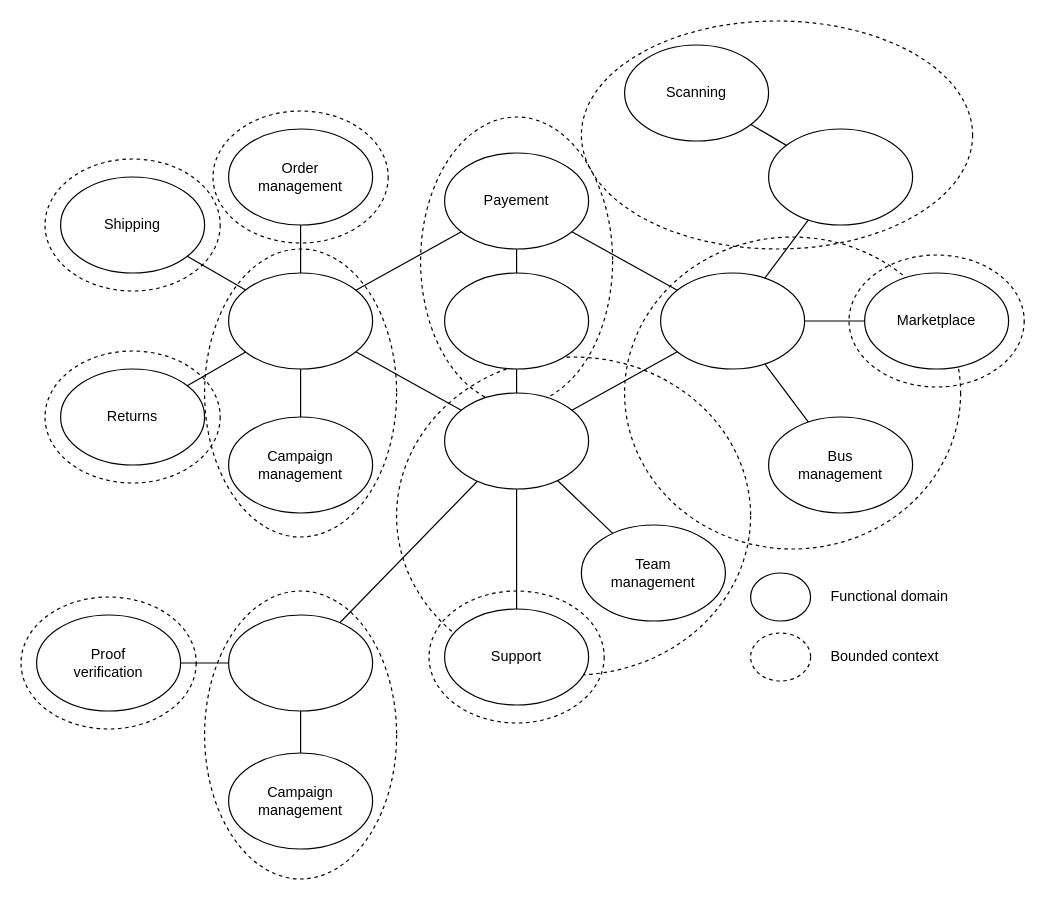
Image size: 1045x900. Some labels were removed from this diagram. The centre of each missing label's shape, as x and y in pixels:
"Accounts" goes at pixel 516 440.
"Challenge management" goes at pixel 300 662.
"Event management" goes at pixel 732 320.
"Invoicing" goes at pixel 516 320.
"Shopping" goes at pixel 300 320.
"Ticket management" goes at pixel 840 176.
